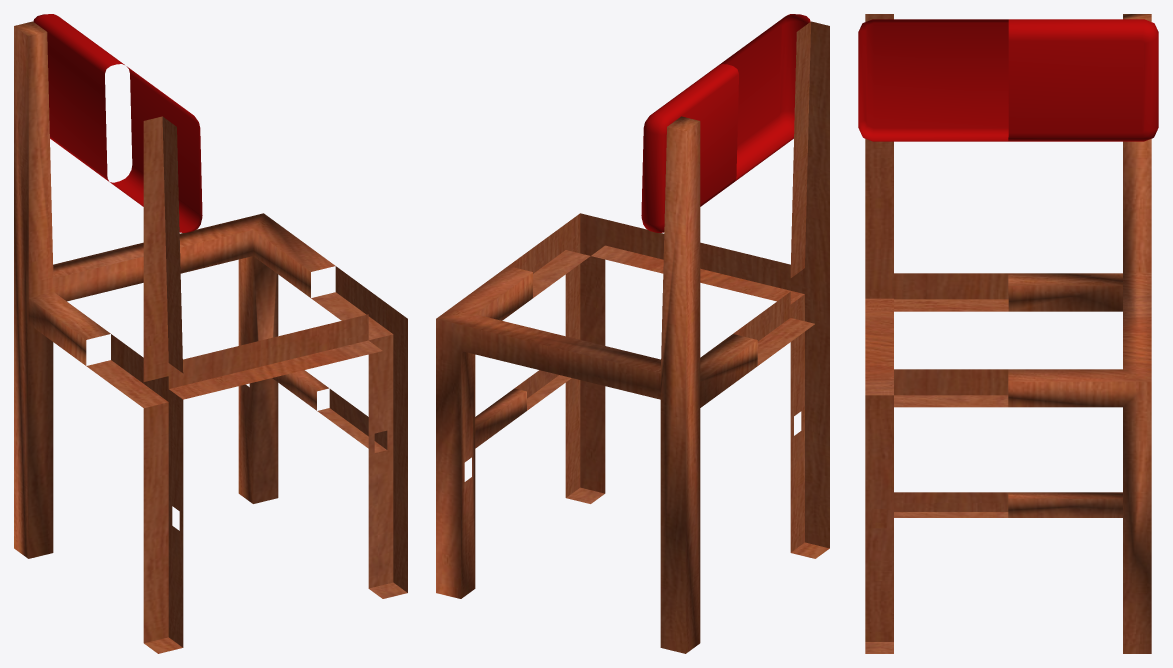
The model's file is o3_sedia_bar.glb.
The picture shows the model from 3 angles, left to right: view 1: azimuth 30°, elevation 25°; view 2: azimuth 150°, elevation 25°; view 3: azimuth 270°, elevation 25°; orthographic projection.
Visible parts, largest first — view 1: sb_modello; view 2: sb_modello; view 3: sb_modello.
Boxes of the visible parts, bbox=[...] form: sb_modello: bbox=[14, 14, 407, 653]; sb_modello: bbox=[436, 14, 829, 653]; sb_modello: bbox=[858, 14, 1158, 653].
Bounding box in the file's own units: 0.4688 × 0.95 × 0.4923.
2 materials, 1 textured.
